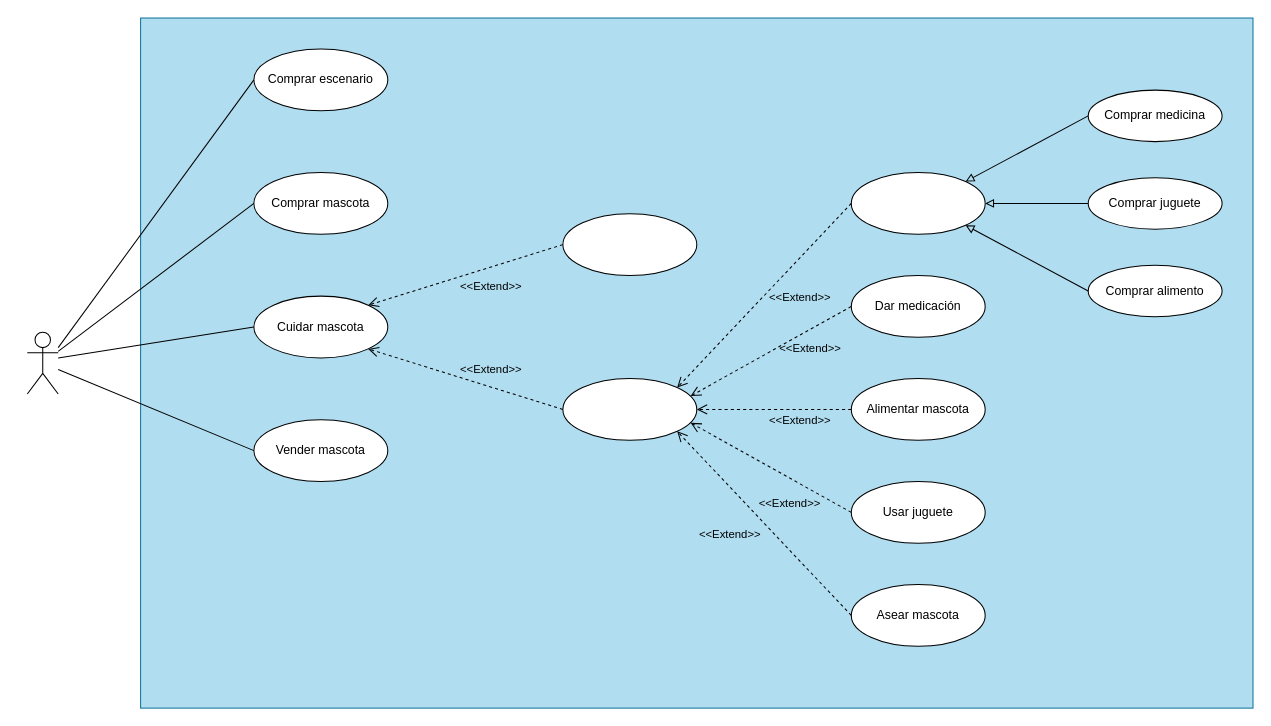
The diagram is 1271 pixels wide and 726 high, and some of its shapes have lost their labels. The shapes that lost their labels are listed below. From the top down, each one's centre as x and y in pixels, then its label:
[917,202]: Comprar en tienda
[629,244]: Ver estado de mascota
[42,362]: Cuidador
[629,408]: Elegir desde menú
